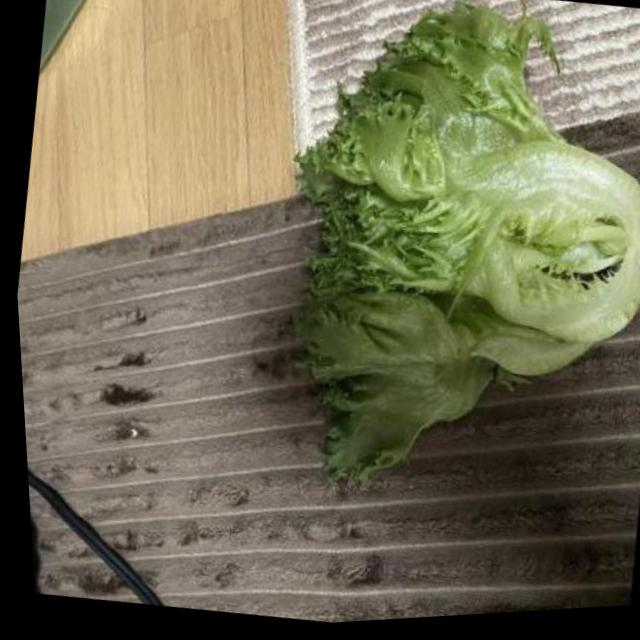Mature: (300, 4, 640, 482), (310, 293, 494, 476), (485, 294, 492, 301)
